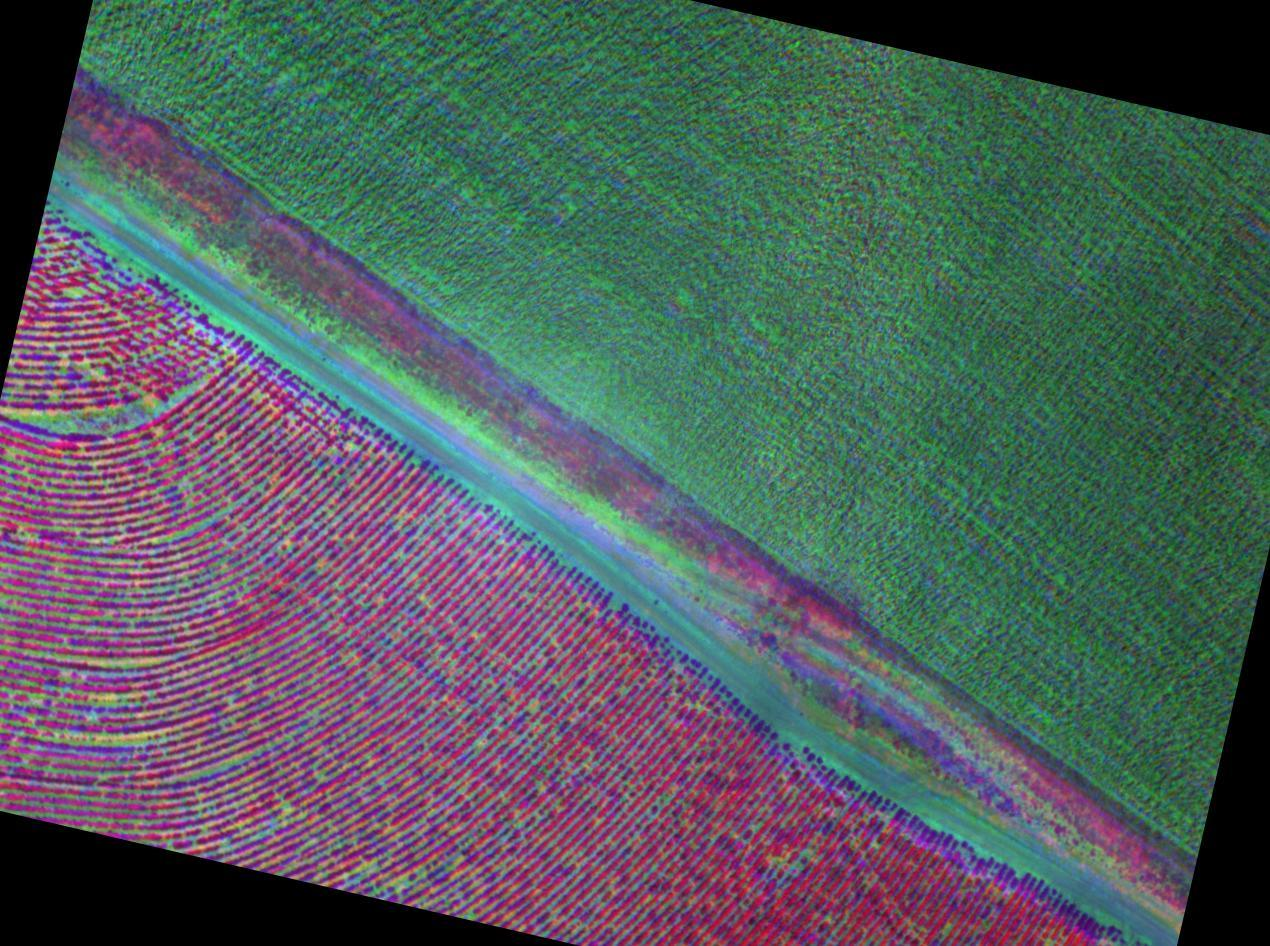dc: (8, 650, 129, 769), (3, 388, 228, 446), (148, 500, 234, 603), (198, 750, 294, 835), (53, 230, 125, 312)
